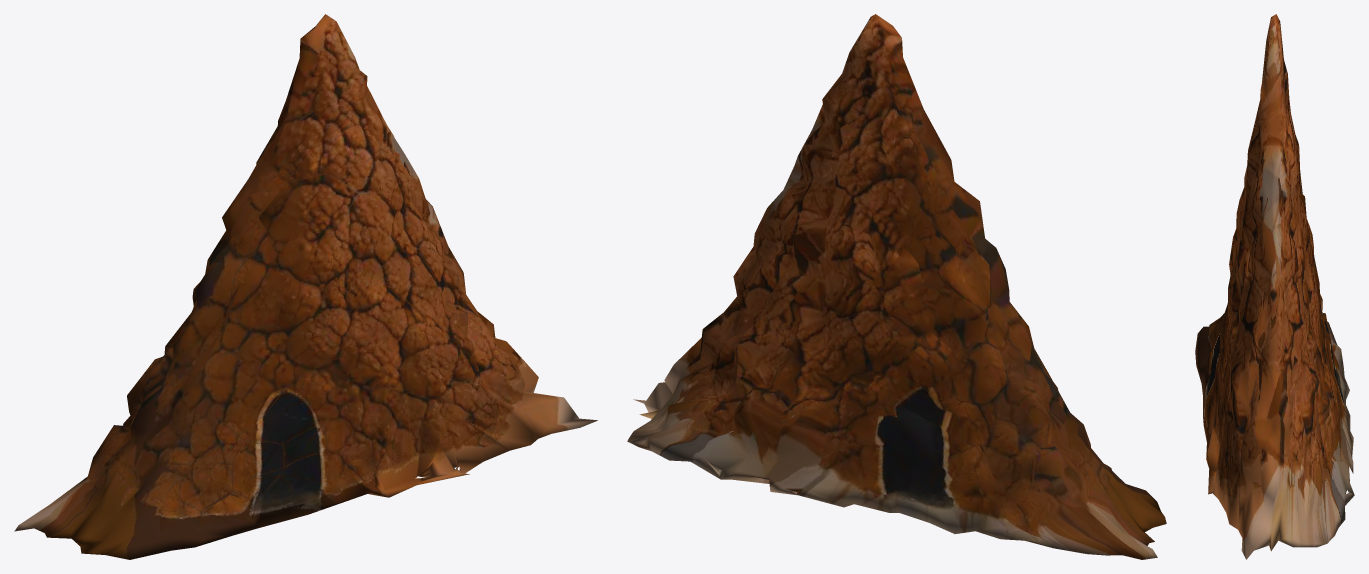
Rendered from toad-prop3d-mound-b.glb.
The picture shows the model from 3 angles, left to right: view 1: azimuth 30°, elevation 25°; view 2: azimuth 150°, elevation 25°; view 3: azimuth 270°, elevation 25°; orthographic projection. The views are drawn at different scales.
Visible parts, largest first — view 1: world; view 2: world; view 3: world.
Boxes of the visible parts, bbox=[...] form: world: bbox=[14, 14, 597, 559]; world: bbox=[627, 14, 1166, 559]; world: bbox=[1195, 14, 1354, 559].
Size of the model in its own units: 0.3 by 0.24 by 0.08.
Materials: 1 (1 with a texture image).
